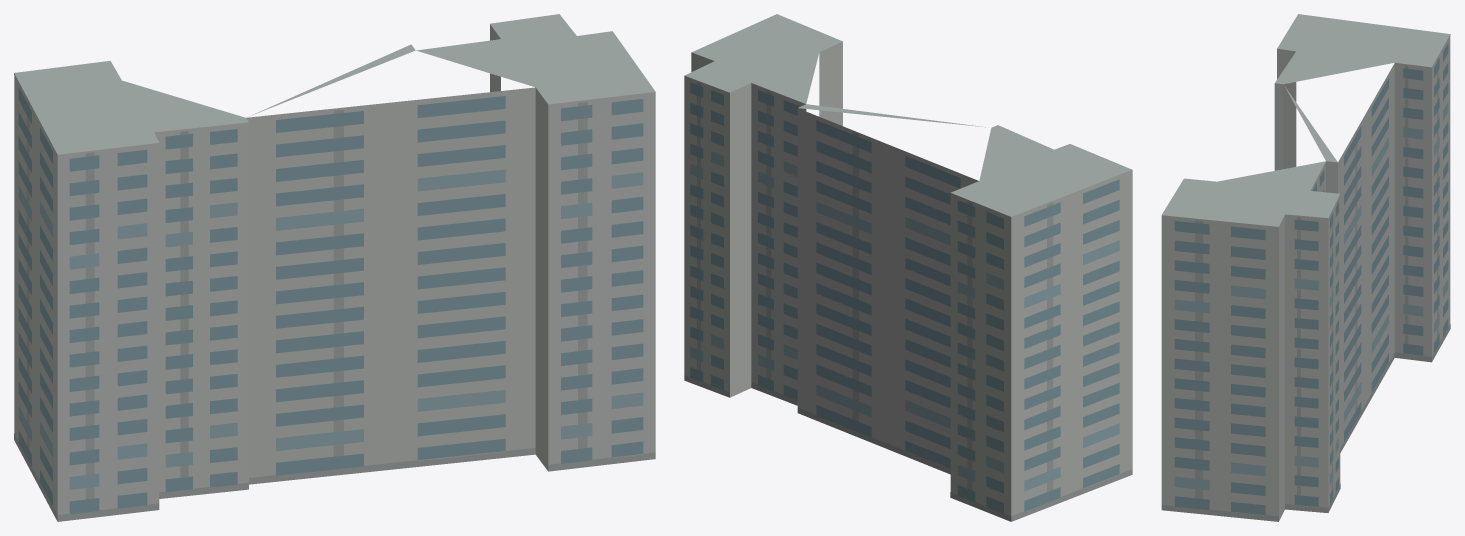
File: residential-43ad38c7-cce8-4189-8681-d80cc3206ac9.glb
3 renders of one model, left to right at view 1: azimuth 30°, elevation 25°; view 2: azimuth 150°, elevation 25°; view 3: azimuth 270°, elevation 25°, orthographic. The views are drawn at different scales.
Parts seen in each view (by area): view 1: residential-43ad38c7-cce8-4189-8681-d80cc3206ac9.tmp; view 2: residential-43ad38c7-cce8-4189-8681-d80cc3206ac9.tmp; view 3: residential-43ad38c7-cce8-4189-8681-d80cc3206ac9.tmp.
Part boxes in pixels (x1,y1,x2,y2): residential-43ad38c7-cce8-4189-8681-d80cc3206ac9.tmp: (14, 14, 655, 521); residential-43ad38c7-cce8-4189-8681-d80cc3206ac9.tmp: (684, 14, 1132, 521); residential-43ad38c7-cce8-4189-8681-d80cc3206ac9.tmp: (1161, 14, 1450, 521).
Size of the model in its own units: 70.81 by 45.75 by 40.62.
